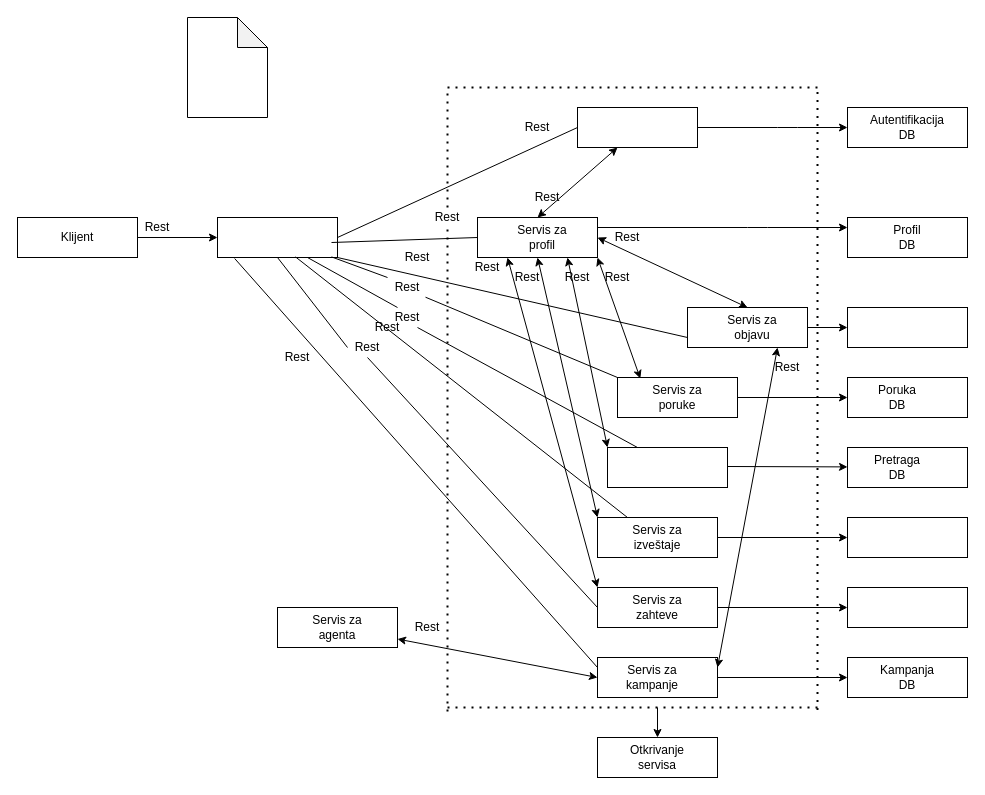
Some shapes in this 985 by 795 pixel diagram are drawn without their labels. The shapes that lost their labels are listed below. From the top down, each one's box as (x1, y1, x2, y2) in pixels, then its label:
(186, 16, 268, 118): Komunikacija izmedju servisa
(576, 106, 698, 148): Servis za autentifikaciju
(216, 216, 338, 258): API gateway
(846, 306, 968, 348): Objava DB
(606, 446, 728, 488): Servis za pretragu
(846, 516, 968, 558): Izveštaj DB
(846, 586, 968, 628): Zahtev DB
